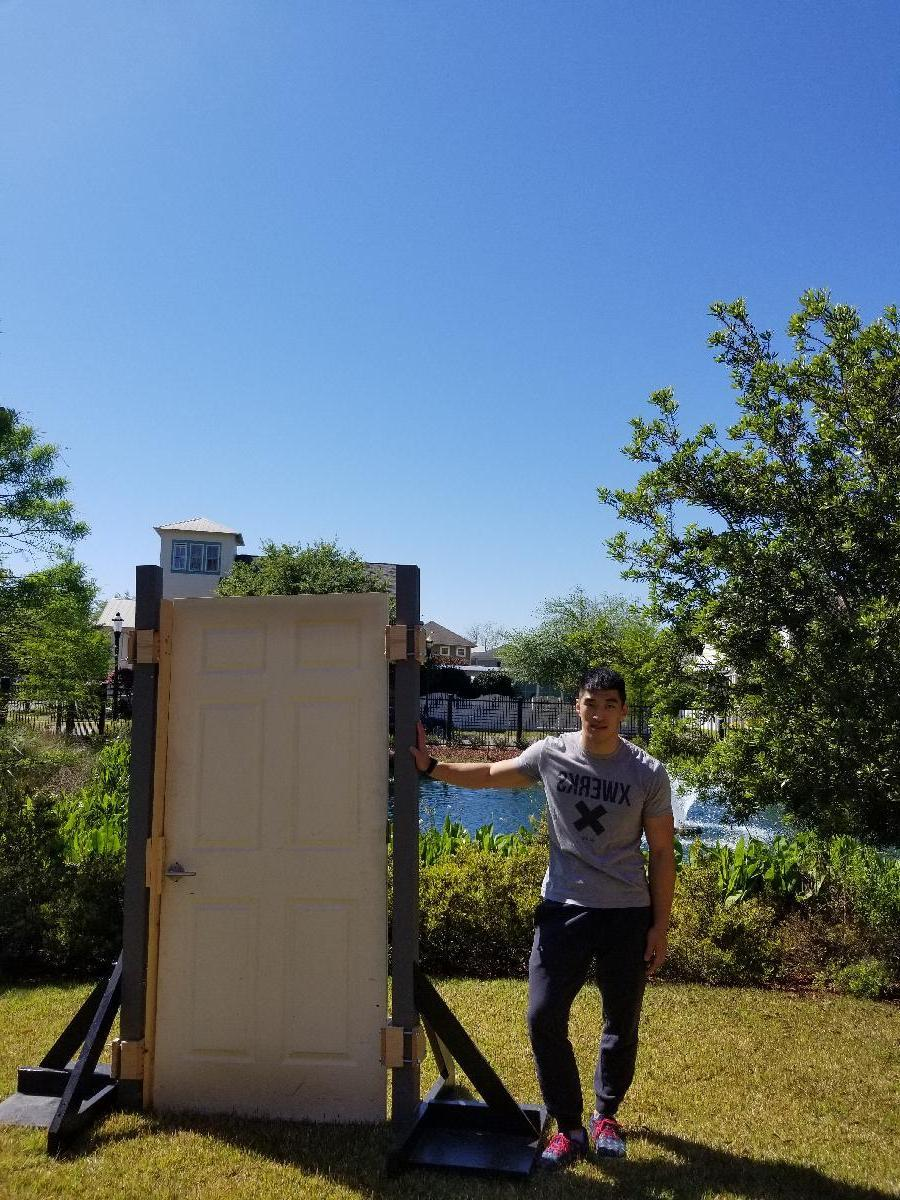door: (149, 596, 394, 1126)
handle: (159, 856, 202, 887)
